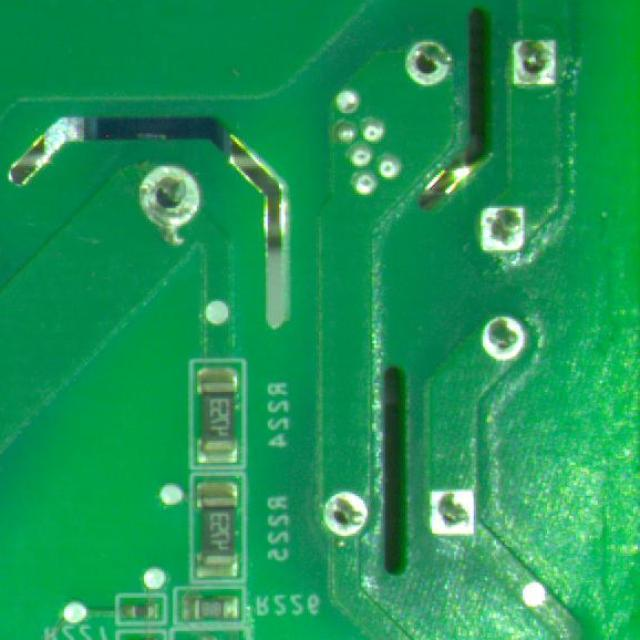Insufficient solder: (504, 12, 574, 96), (126, 164, 202, 238), (426, 468, 481, 544), (468, 308, 532, 369), (394, 39, 462, 92), (314, 486, 374, 544), (476, 202, 528, 264)
